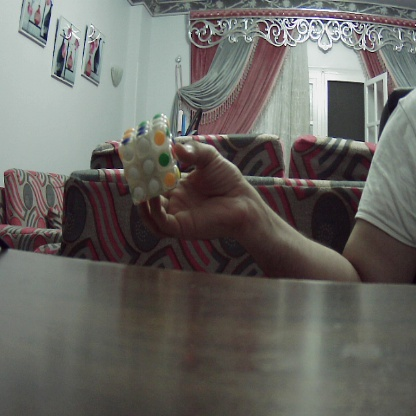Rubix Cube: (113, 115, 181, 205)
